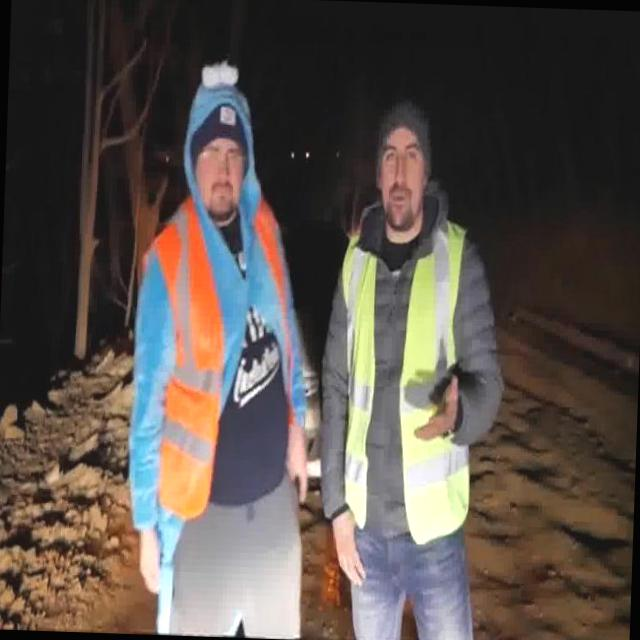vest: (144, 189, 301, 528), (330, 214, 480, 546)
